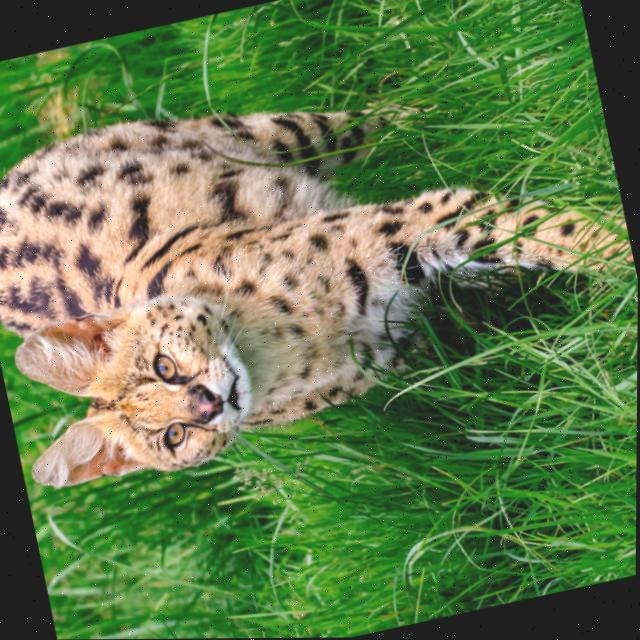Savannah: (0, 17, 640, 510)
